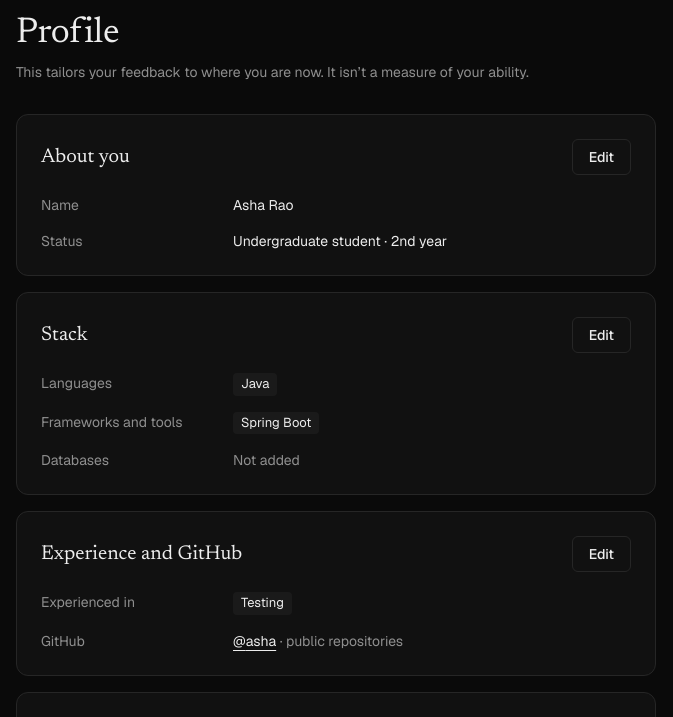
Test case: cancel throws away unsaved changes
Click the button with aria-label "Edit About you". click: (601, 157)
box: [572,139,631,175]
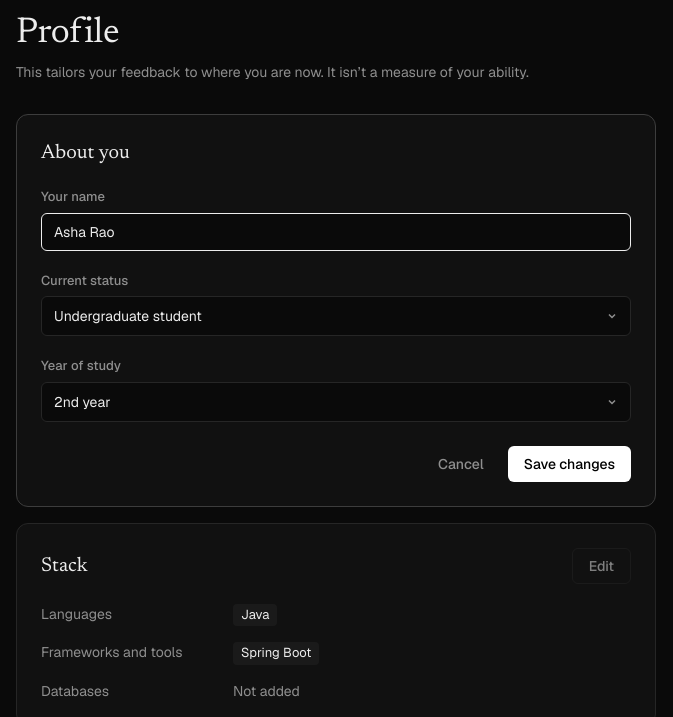
Replace the text in the field labelled "Your name" with "Someone Else". click: (336, 232)
box: [41,212,631,250]
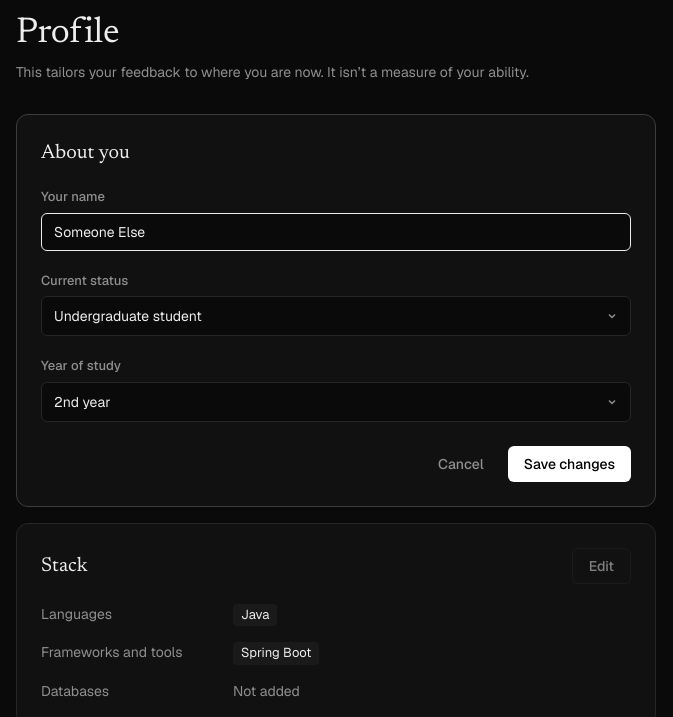
Click the button "Cancel". click: (461, 464)
box: [422,446,500,482]
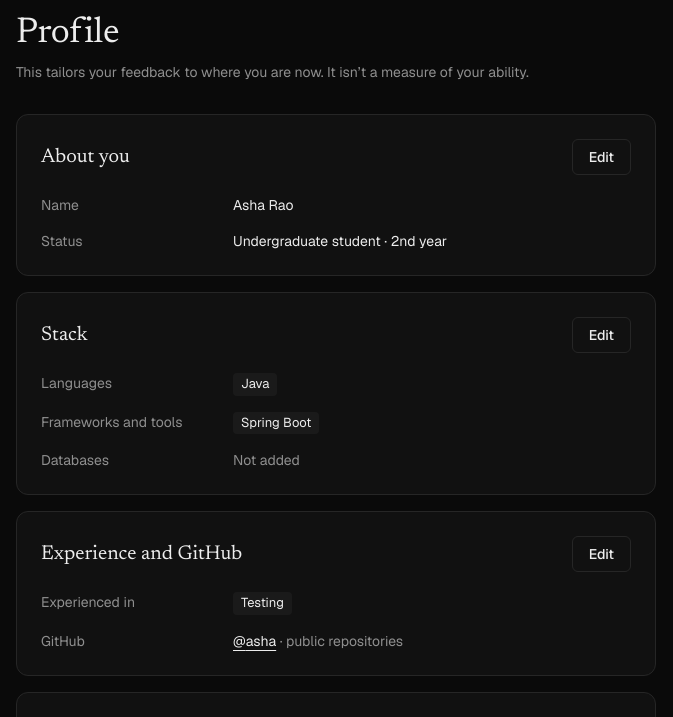
Check: the text "Asha Rao" is shown, box [233,196,294,214]
